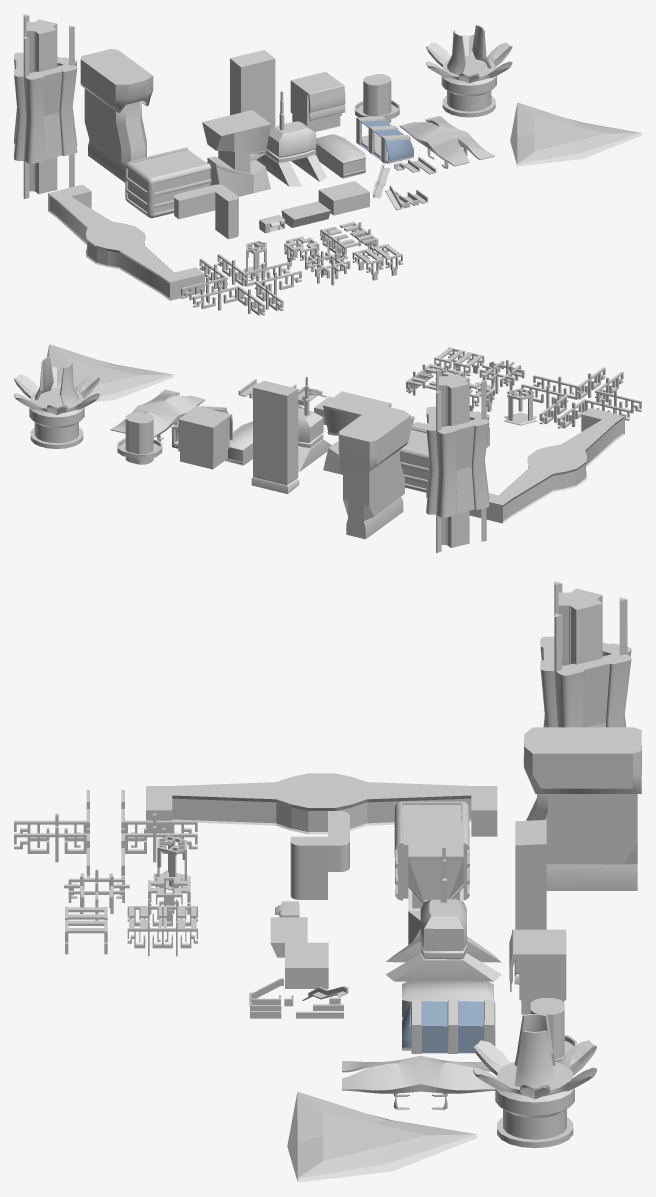
The model's file is KF_SM_ModularKit.fbx.
3 views of the same model, one above another, from view 1: azimuth 30°, elevation 25°; view 2: azimuth 150°, elevation 25°; view 3: azimuth 270°, elevation 25° (orthographic). The views are drawn at different scales.
Visible parts, largest first — view 1: Box057, Box047, Box059, Cylinder002, Box058, Box038, Box039, Box061, Box040, Box051, Box056, Box048 (+14 smaller); view 2: Box057, Box047, Box059, Box051, Cylinder002, Box061, Box058, Box053, Box038, Box056, Box055, Box040 (+8 smaller); view 3: Box047, Box059, Box057, Box058, Cylinder002, Box040, Box056, Box038, Box061, Box048, Box051, Box053 (+12 smaller).
Part boxes in pixels (x1,y1,x2,y2): Box057: (14, 14, 77, 198); Box047: (80, 49, 153, 182); Box059: (48, 184, 204, 300); Cylinder002: (426, 24, 512, 117); Box058: (510, 102, 641, 166); Box038: (202, 110, 271, 196); Box039: (125, 147, 211, 218); Box061: (181, 254, 301, 315); Box040: (256, 91, 326, 186); Box051: (230, 50, 275, 160); Box056: (399, 116, 494, 168); Box048: (174, 184, 238, 239); Box057: (426, 368, 489, 552); Box047: (338, 406, 411, 539); Box059: (469, 407, 624, 523); Box051: (251, 380, 299, 493); Cylinder002: (14, 356, 99, 448); Box061: (521, 367, 641, 428); Box058: (47, 344, 173, 401); Box053: (178, 407, 229, 469); Box038: (323, 391, 391, 474); Box056: (110, 389, 205, 441); Box055: (117, 412, 162, 464); Box040: (298, 376, 331, 471); Box047: (523, 727, 641, 890); Box059: (146, 773, 497, 836); Box057: (540, 581, 631, 727); Box058: (287, 1091, 476, 1182); Cylinder002: (473, 1014, 596, 1147); Box040: (385, 847, 501, 981); Box056: (342, 1055, 495, 1110); Box038: (408, 821, 463, 944); Box061: (14, 790, 197, 878); Box048: (290, 811, 349, 899); Box051: (514, 820, 546, 984); Box053: (519, 929, 566, 1014).
Size of the model in its own units: 502 by 158 by 350.
